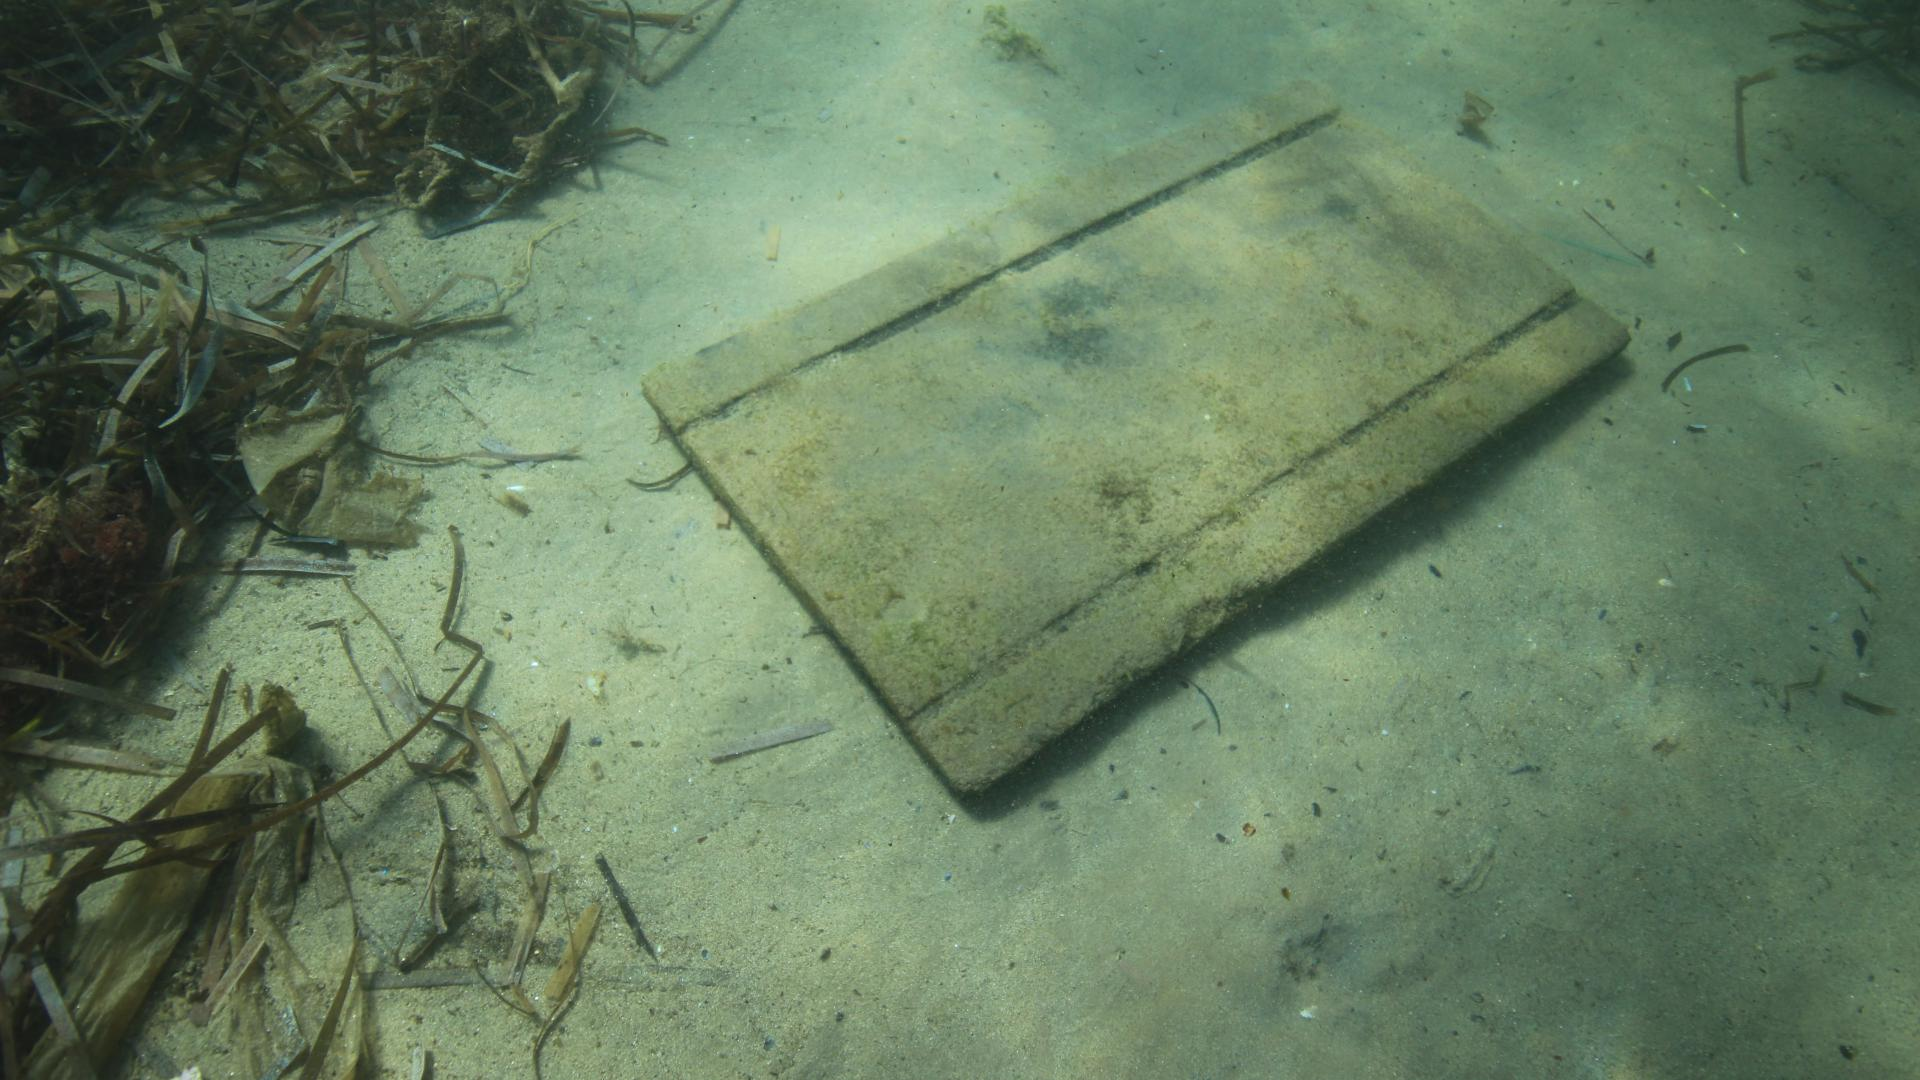wood: (640, 80, 1629, 799)
